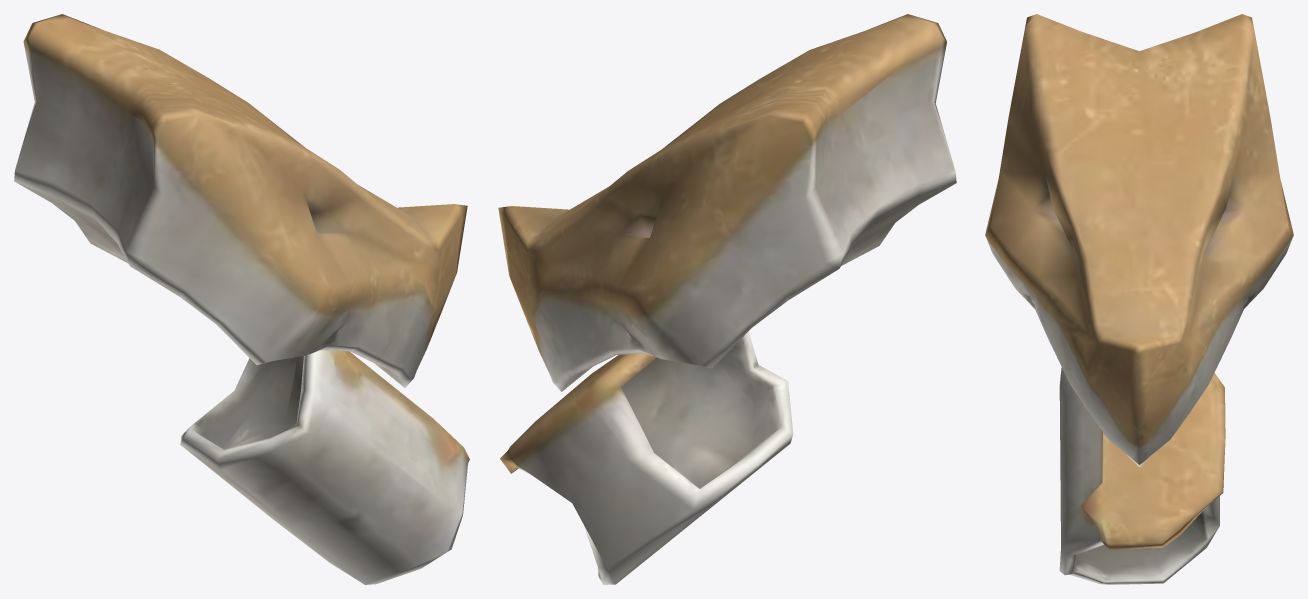
The picture shows the model from 3 angles, left to right: view 1: azimuth 30°, elevation 25°; view 2: azimuth 150°, elevation 25°; view 3: azimuth 270°, elevation 25°; orthographic projection. The views are drawn at different scales.
Parts seen in each view (by area): view 1: SM_Vault_Guardian_Melee_01_Parts_SM_VaultGuardian_Melee_L_Sh; view 2: SM_Vault_Guardian_Melee_01_Parts_SM_VaultGuardian_Melee_L_Sh; view 3: SM_Vault_Guardian_Melee_01_Parts_SM_VaultGuardian_Melee_L_Sh.
Part boxes in pixels (x1=…): SM_Vault_Guardian_Melee_01_Parts_SM_VaultGuardian_Melee_L_Sh: x1=14, y1=14, x2=469, y2=584; SM_Vault_Guardian_Melee_01_Parts_SM_VaultGuardian_Melee_L_Sh: x1=498, y1=14, x2=956, y2=584; SM_Vault_Guardian_Melee_01_Parts_SM_VaultGuardian_Melee_L_Sh: x1=985, y1=14, x2=1293, y2=584.
Bounding box in the file's own units: 0.5766 × 0.7806 × 0.4658.
1 material, 1 textured.
